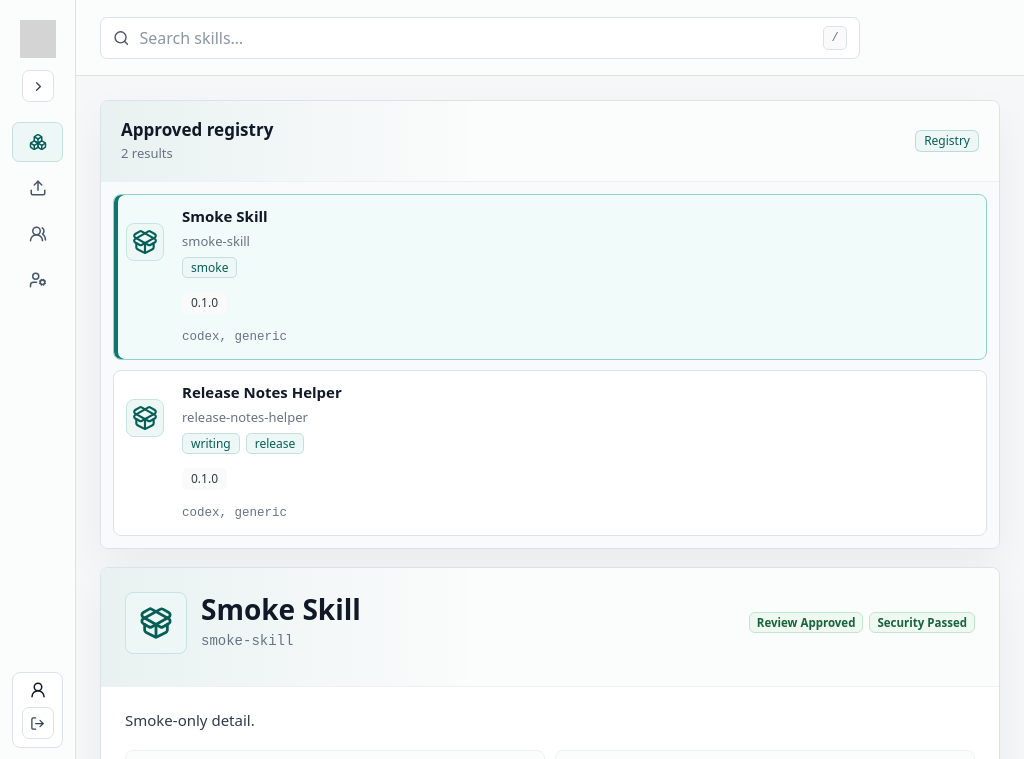
Test: searching selects a matching result when the current detail is filtered out
Expected: the text "Smoke-only detail." is shown, left=125, top=710, right=255, bottom=730
In the field named "Search skills": (476, 38) left=140, top=26, right=813, bottom=50, type "release"
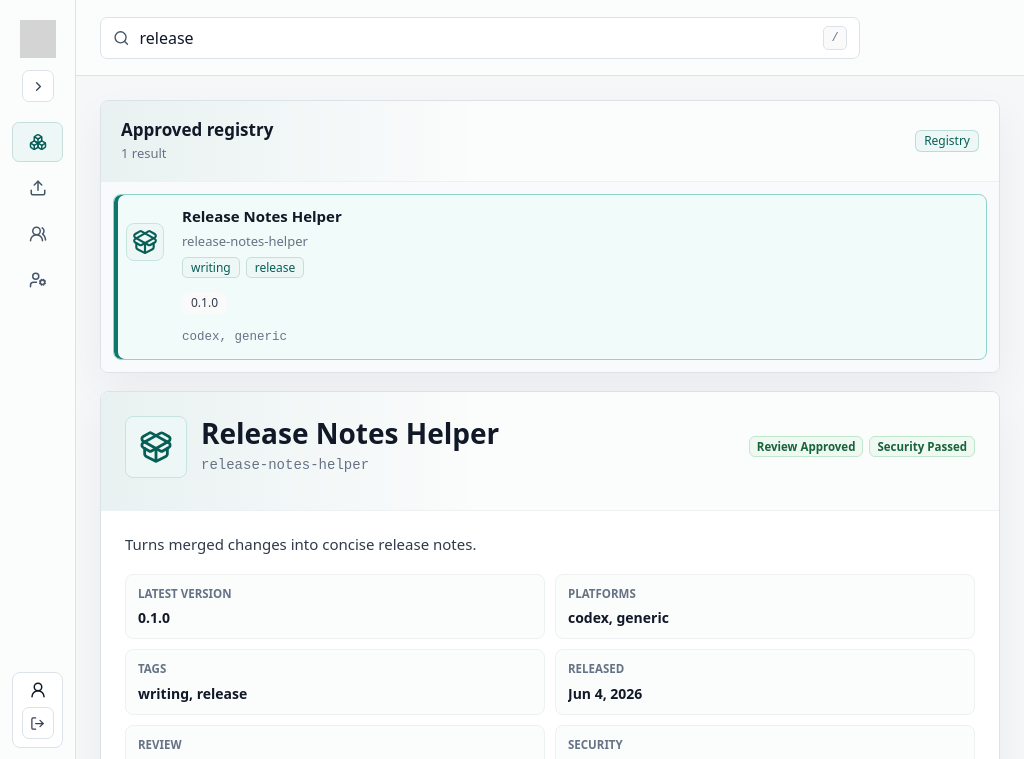
Expected: the text "Turns merged changes into concise release notes." is shown, left=125, top=534, right=476, bottom=554
